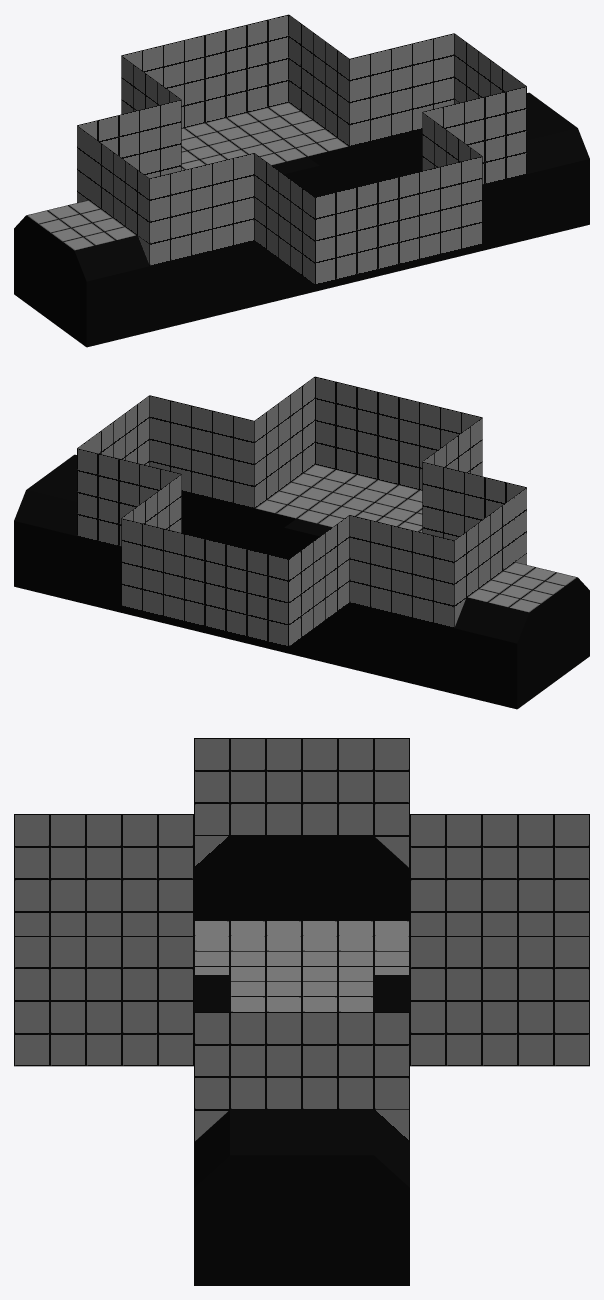
File: Room_CrossLava.FBX
3 views of the same model, one above another, from view 1: azimuth 30°, elevation 25°; view 2: azimuth 150°, elevation 25°; view 3: azimuth 270°, elevation 25° (orthographic). The views are drawn at different scales.
Parts seen in each view (by area): view 1: Room_LavaBridge; view 2: Room_LavaBridge; view 3: Room_LavaBridge.
Part boxes in pixels (box(x1,y1,x2,y2)): Room_LavaBridge: box(14, 14, 589, 347); Room_LavaBridge: box(14, 376, 589, 709); Room_LavaBridge: box(14, 738, 589, 1285).
Size of the model in its own units: 2400 by 700 by 1600.
Materials: 1 (1 with a texture image).
